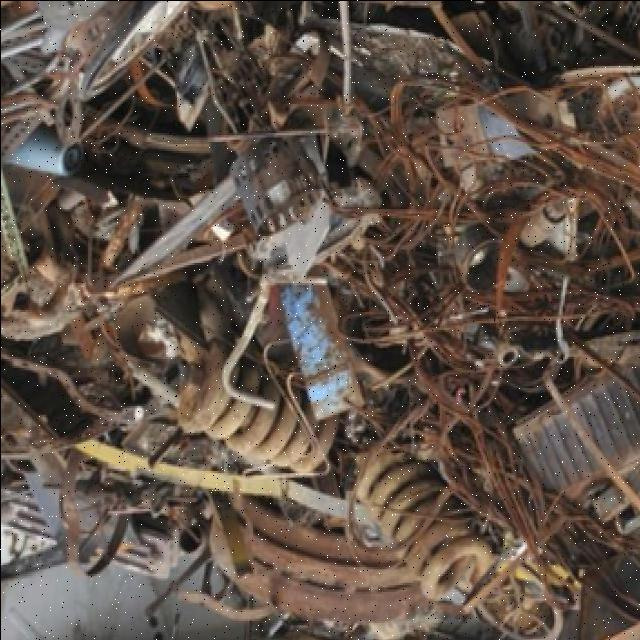shock absorber: (345, 410, 496, 615), (160, 336, 340, 475)
